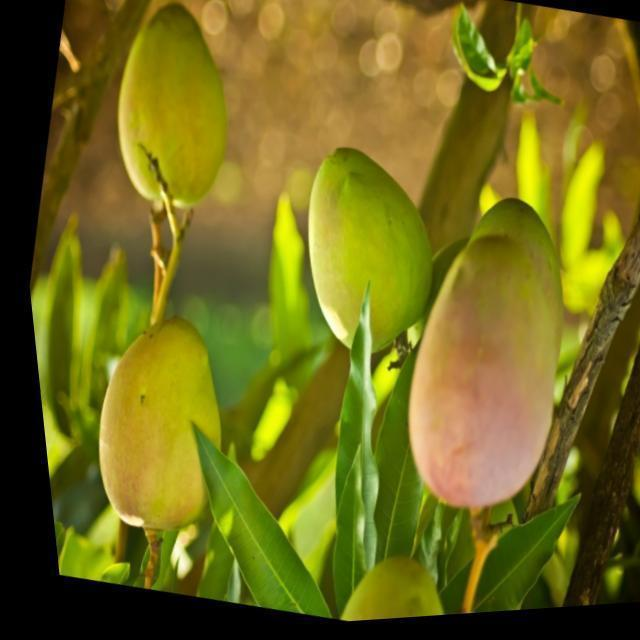Mango: (418, 188, 570, 512), (105, 309, 223, 524), (113, 4, 229, 209), (313, 139, 423, 332)
